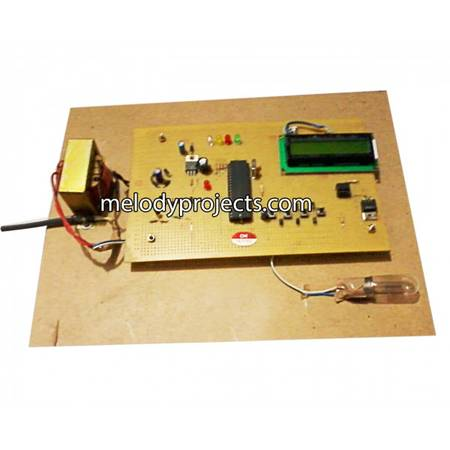capacitor: (198, 157, 208, 172), (178, 140, 187, 155), (154, 168, 163, 183)
